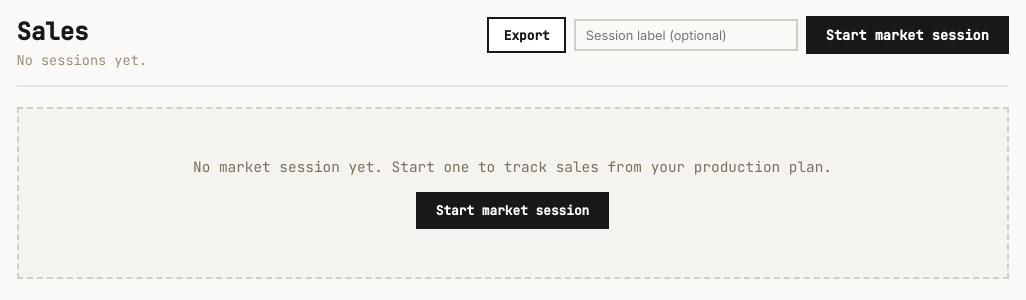
Test: SalesView › opens a session from the production plan snapshot (writes initialPlan + empty transactions)
Click the button with test id "sales-start-btn". click: coordinates (907, 35)
box: 806,16 -> 1008,54
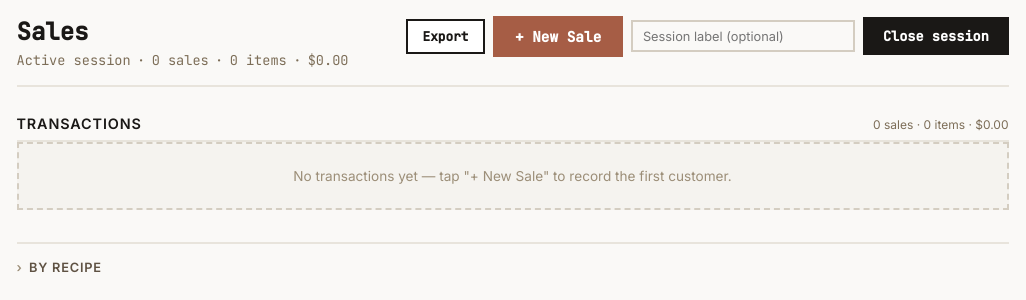
expect the element with test id "sales-active" is shown: met, box 16,107 -> 1008,283
